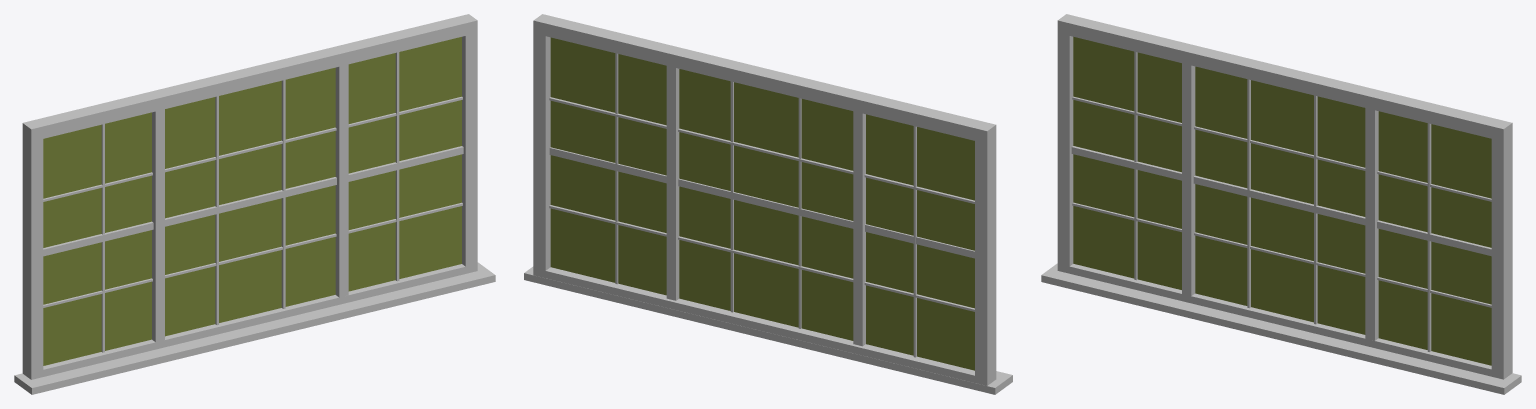
Rendered from window.fbx.
3 views of the same model, side by side, from view 1: azimuth 30°, elevation 25°; view 2: azimuth 150°, elevation 25°; view 3: azimuth 330°, elevation 25° (orthographic).
Visible parts, largest first — view 1: Plane004, Line005; view 2: Plane004, Line005; view 3: Plane004, Line005.
Boxes of the visible parts, <box> form: Plane004: <box>43,37,461,365</box>; Line005: <box>14,14,495,394</box>; Plane004: <box>550,37,974,370</box>; Line005: <box>524,14,1012,394</box>; Plane004: <box>1073,36,1491,365</box>; Line005: <box>1041,14,1521,394</box>.
Size of the model in its own units: 280 by 149 by 18.33.
